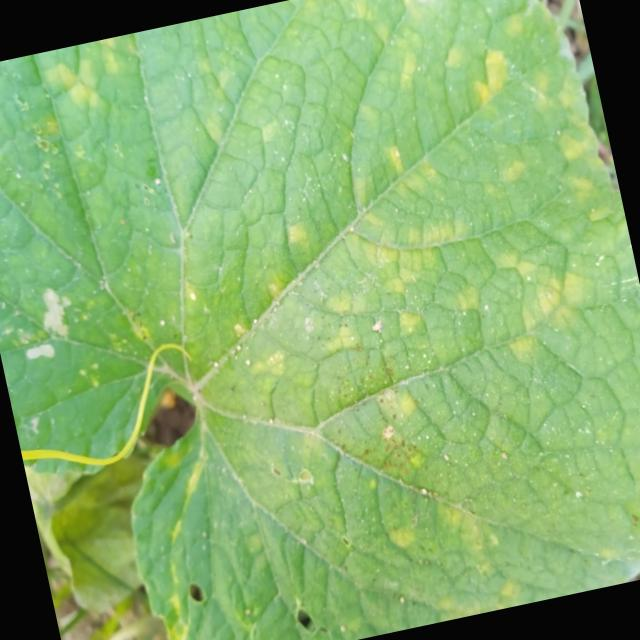cucumber_downy: (39, 0, 640, 640)
